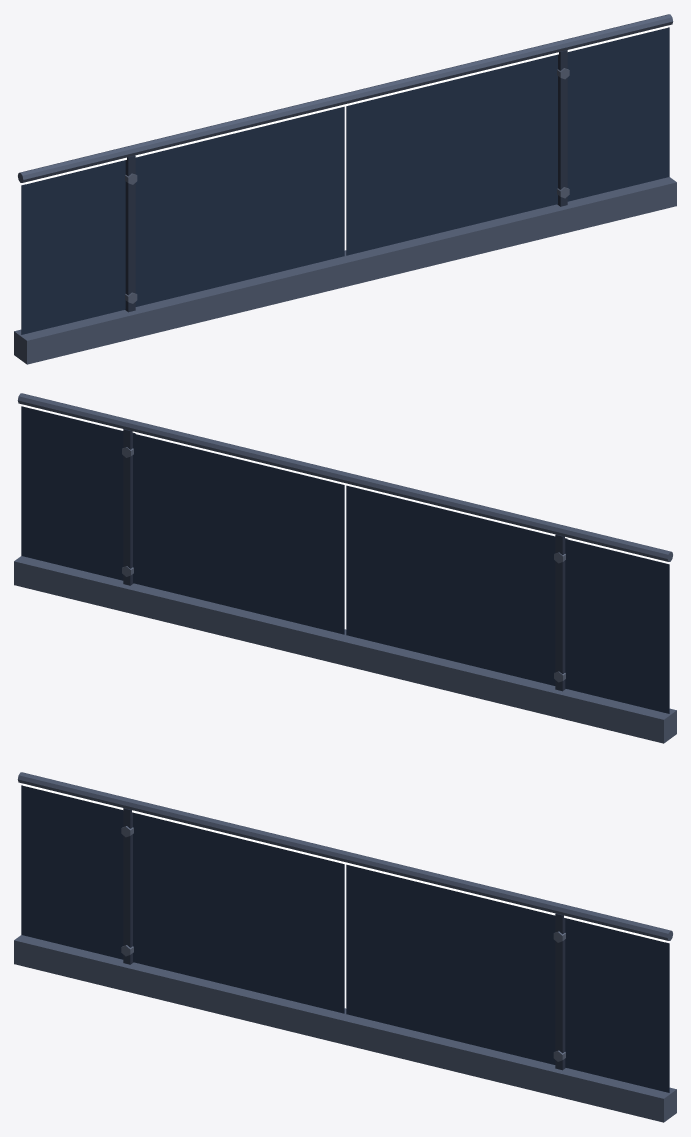
The model's file is mall_glass_rail.glb.
The picture shows the model from 3 angles, top to bottom: view 1: azimuth 30°, elevation 25°; view 2: azimuth 150°, elevation 25°; view 3: azimuth 330°, elevation 25°; orthographic projection.
Visible parts, largest first — view 1: glass, clamp, stanchion, led; view 2: glass, clamp, stanchion, led; view 3: glass, clamp, stanchion, led.
Boxes of the visible parts, box(x1,y1,x2,y2) form: glass: box(21, 27, 669, 334); clamp: box(14, 14, 676, 364); stanchion: box(125, 50, 567, 312); led: box(24, 25, 667, 184); glass: box(21, 406, 669, 713); clamp: box(14, 393, 676, 743); stanchion: box(123, 429, 567, 691); led: box(24, 405, 666, 562); glass: box(21, 785, 669, 1092); clamp: box(14, 772, 676, 1122); stanchion: box(123, 808, 565, 1070); led: box(23, 783, 666, 942).
Size of the model in its own units: 4 by 1.1 by 0.14.
